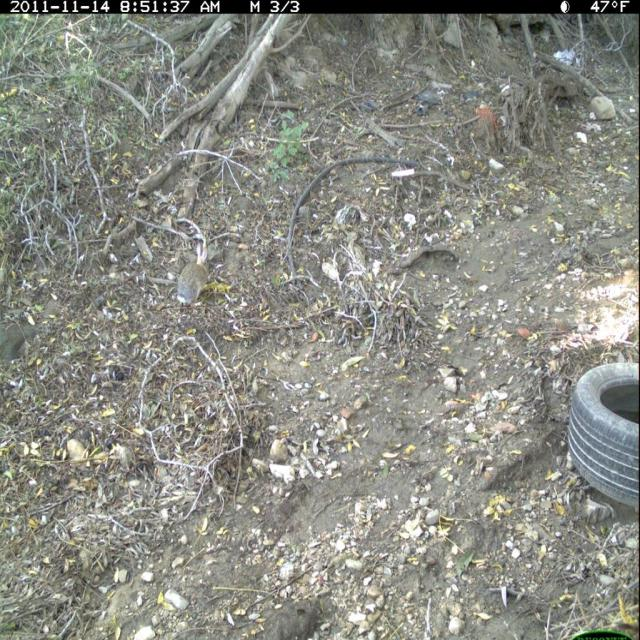rabbit: (173, 234, 215, 319)
